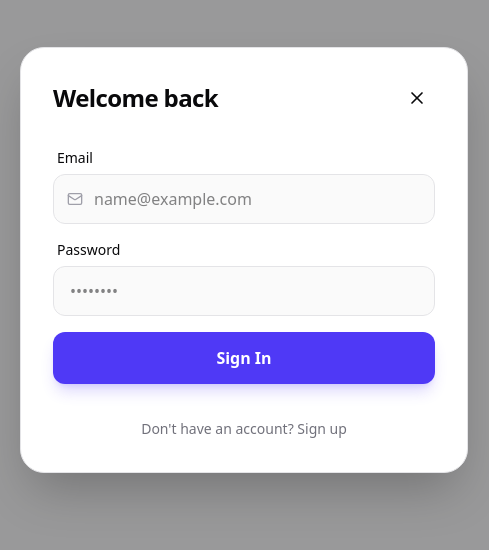
AuthModal › displays error on failed login
Step 1. Type "test@test.com" into the field with placeholder "name@example.com" → (244, 199), box [53,174,435,224]
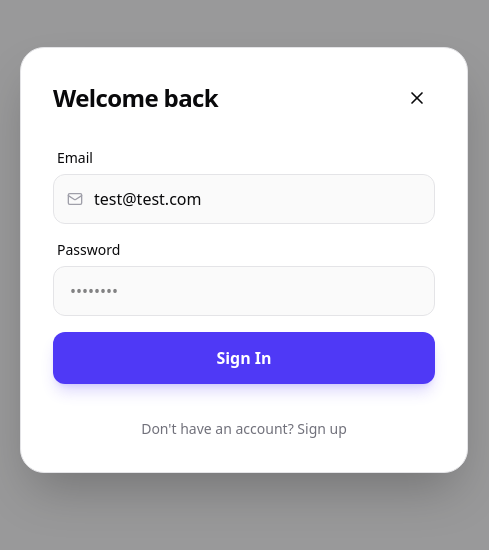
Step 2. Type "wrong" into the password field with placeholder "••••••••" → (244, 291), box [53,266,435,316]
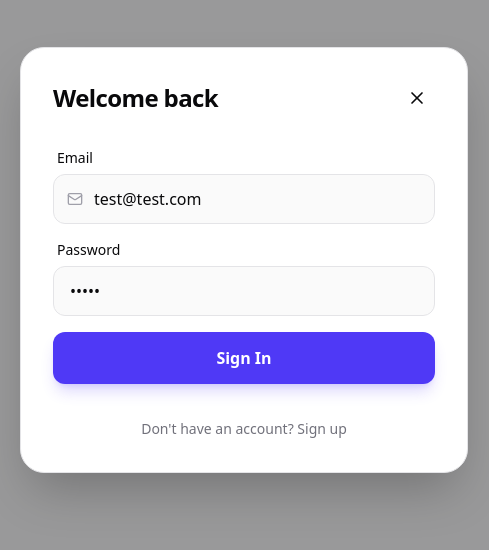
Step 3. Click the button "Sign In" → (244, 358), box [53,332,435,384]
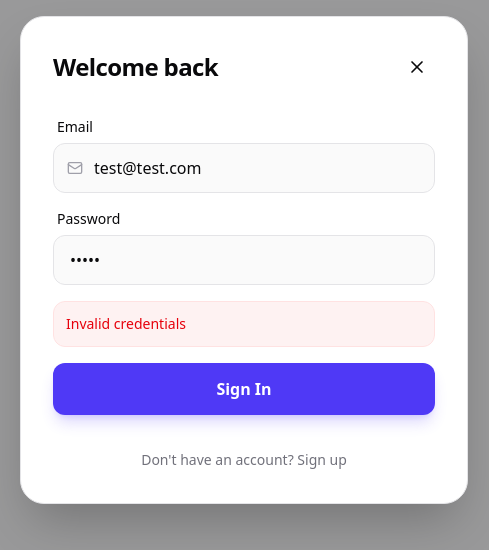
Expected: the text "Invalid credentials" is shown, [53,301,435,347]
